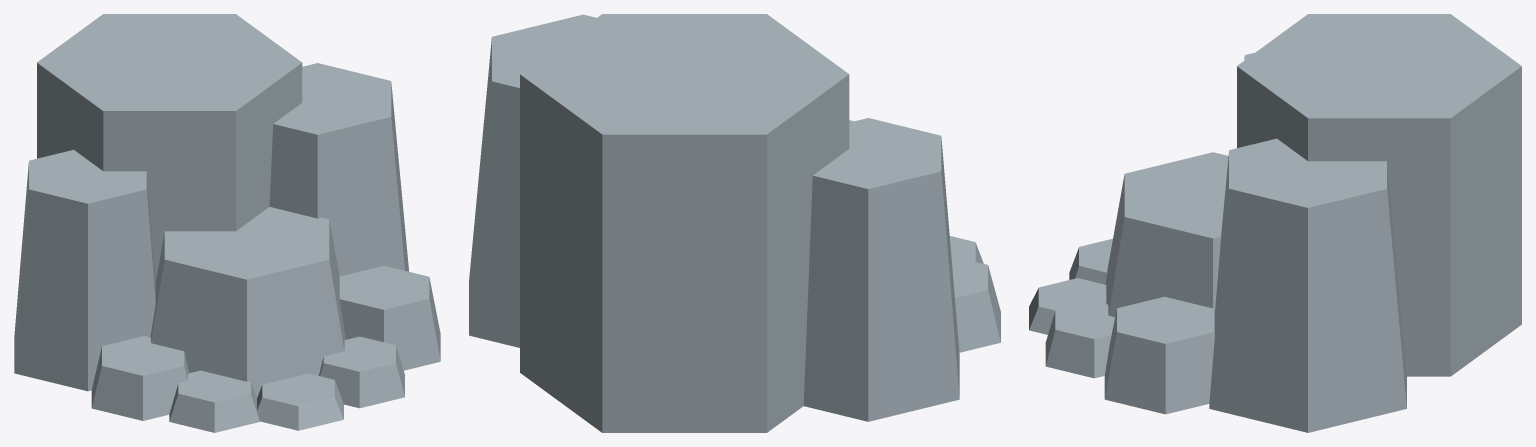
Rendered from Rock_01.fbx.
The picture shows the model from 3 angles, left to right: view 1: azimuth 30°, elevation 25°; view 2: azimuth 150°, elevation 25°; view 3: azimuth 270°, elevation 25°; orthographic projection. The views are drawn at different scales.
Parts seen in each view (by area): view 1: Cylinder.003; view 2: Cylinder.003; view 3: Cylinder.003.
Boxes of the visible parts, bbox=[...] form: Cylinder.003: bbox=[14, 14, 440, 432]; Cylinder.003: bbox=[469, 14, 1000, 432]; Cylinder.003: bbox=[1029, 14, 1521, 432].
Bounding box in the file's own units: 2.06 × 1.2 × 2.07.
